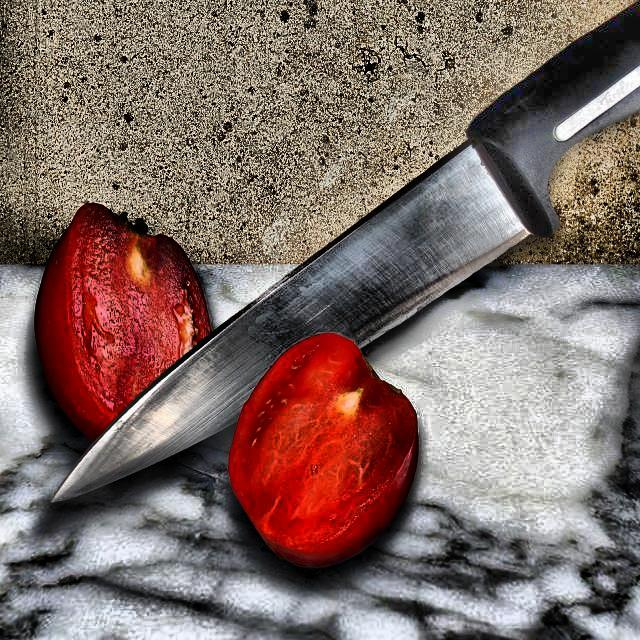knife: (46, 0, 640, 513)
